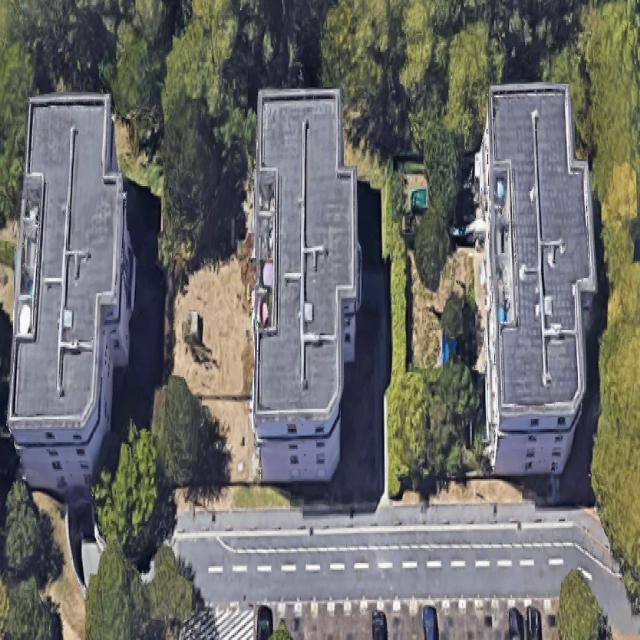immeuble: (0, 86, 159, 502), (468, 80, 606, 475), (249, 90, 361, 483)
